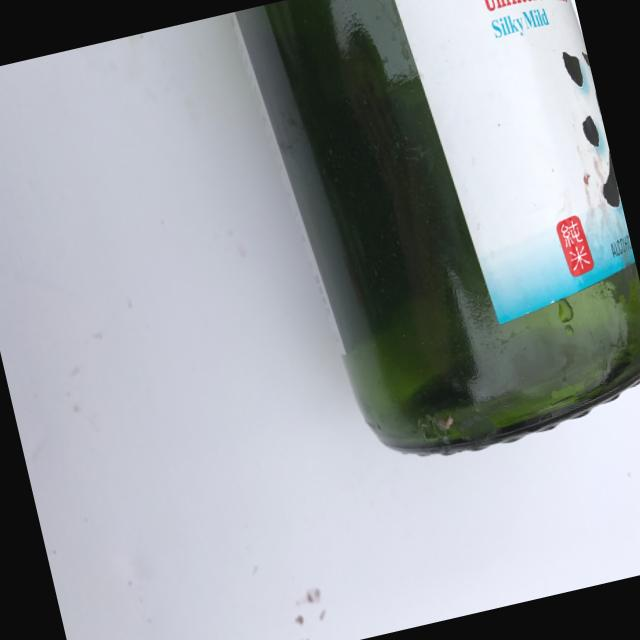Glass: (231, 0, 640, 489)
